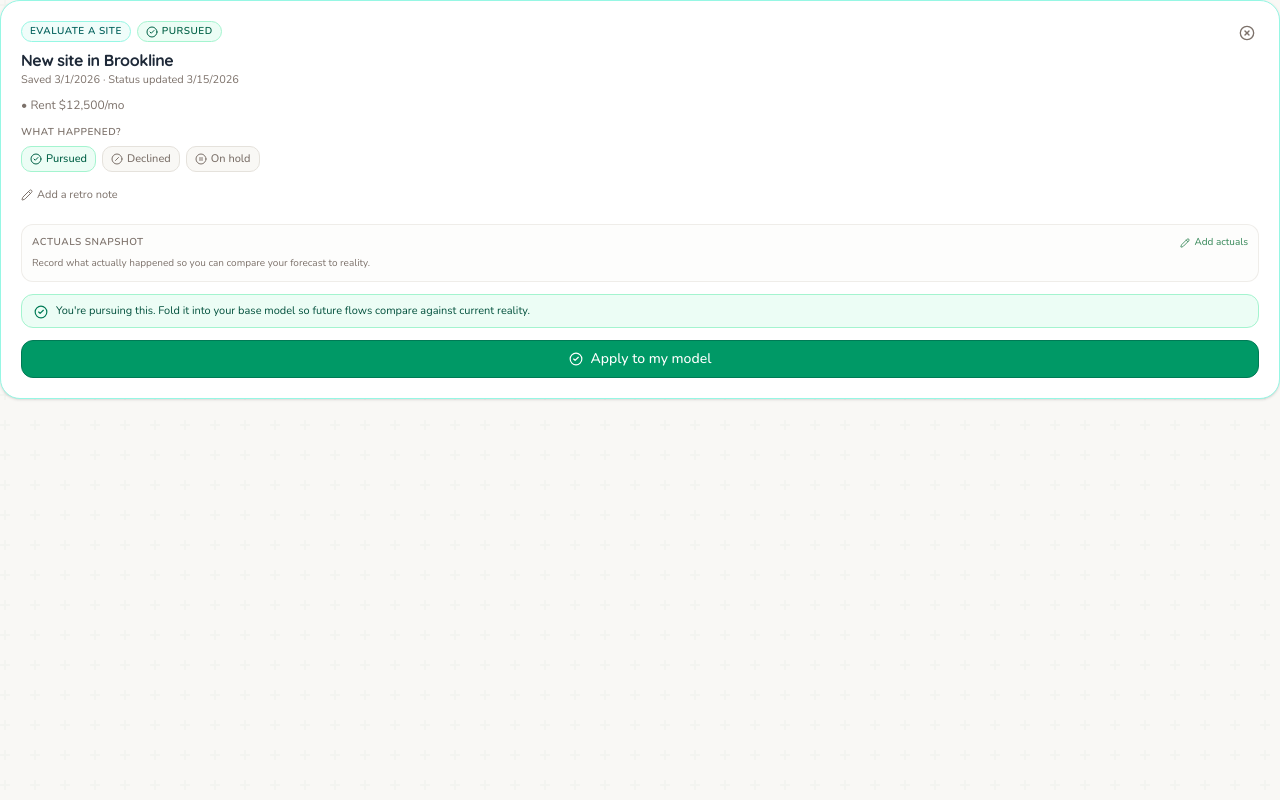
Test: CustomScenarioCard — uploaded export controls panel › shows the uploaded-export controls panel as soon as the editor opens (no suggest click required)
Click the button with test id "custom-scenario-actuals-edit-0": click(1214, 242) [1180,235,1248,250]
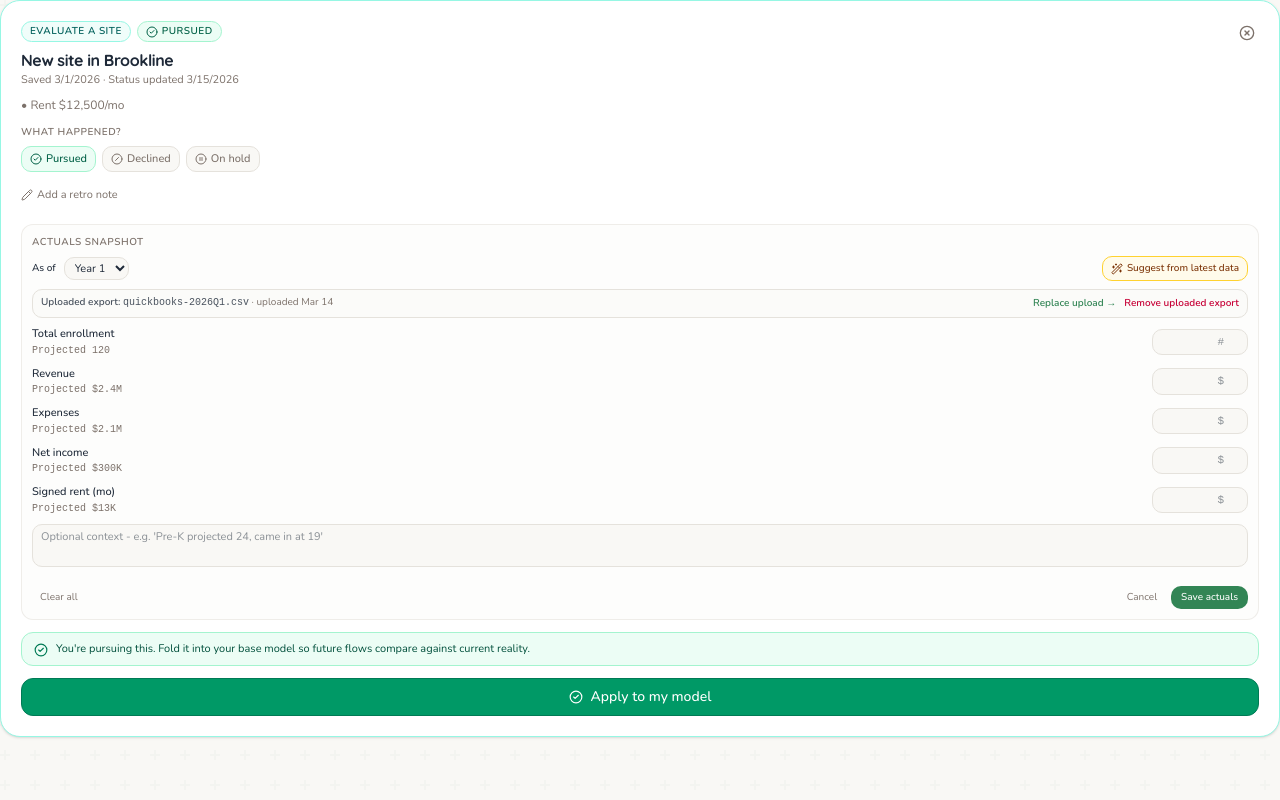
Expected: the element with test id "custom-scenario-actuals-export-controls-0" is shown, [32,289,1248,318]
Expected: the element with test id "custom-scenario-actuals-export-controls-0" shows "Uploaded export", [41,295,120,309]
Expected: the text with test id "custom-scenario-actuals-export-controls-filename-0" reads "quickbooks-2026Q1.csv", [123,297,249,308]
